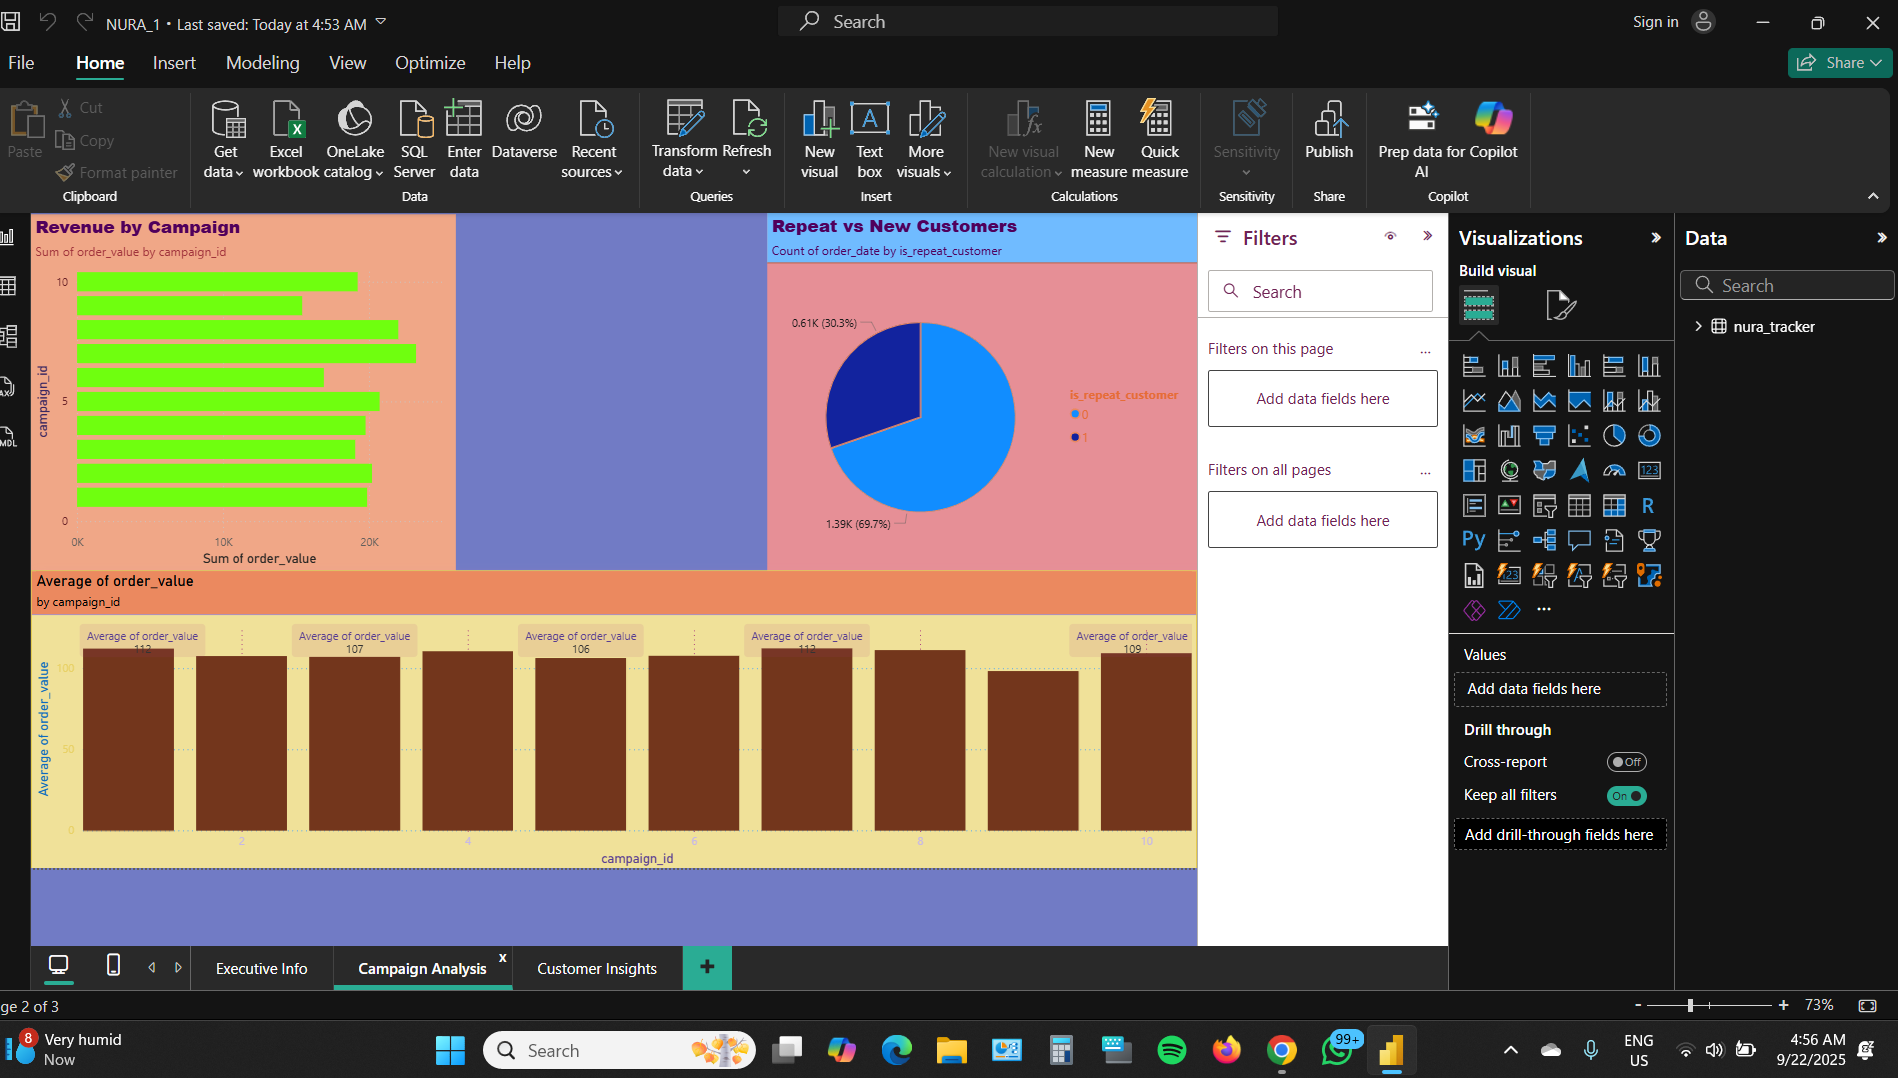

Layout of this report page (visuals, bound fields, positions):
{"tool":"powerbi","page":{"name":"Campaign Analysis","canvas":[1280,720],"ordinal":1},"visuals":[{"type":"clusteredBarChart","title":"Revenue by Campaign","fields":{"Category":["nura_tracker.campaign_id"],"Y":["nura_tracker.order_value"]},"box":[0.5,1.4,466.6,391.1],"z":0},{"type":"pieChart","title":"Repeat vs New Customers","fields":{"Category":["nura_tracker.is_repeat_customer"],"Y":["nura_tracker.order_date"]},"box":[808.2,0,472,392.5],"z":1},{"type":"clusteredColumnChart","fields":{"Category":["nura_tracker.campaign_id"],"Y":["nura_tracker.order_value"]},"box":[0.5,392,1280.3,329.3],"z":2}]}

Visuals, with their boxes on the page's 1280x720 design canvas (x1, y1, x2, y2). These are canvas units, not pixel positions in the 1898x1078 screenshot, which may show the page scaled, cropped or inside an application window:
"Revenue by Campaign" clusteredBarChart: locate(0, 1, 467, 392)
"Repeat vs New Customers" pieChart: locate(808, 0, 1280, 392)
clusteredColumnChart - nura_tracker.campaign_id x nura_tracker.order_value: locate(0, 392, 1281, 721)
